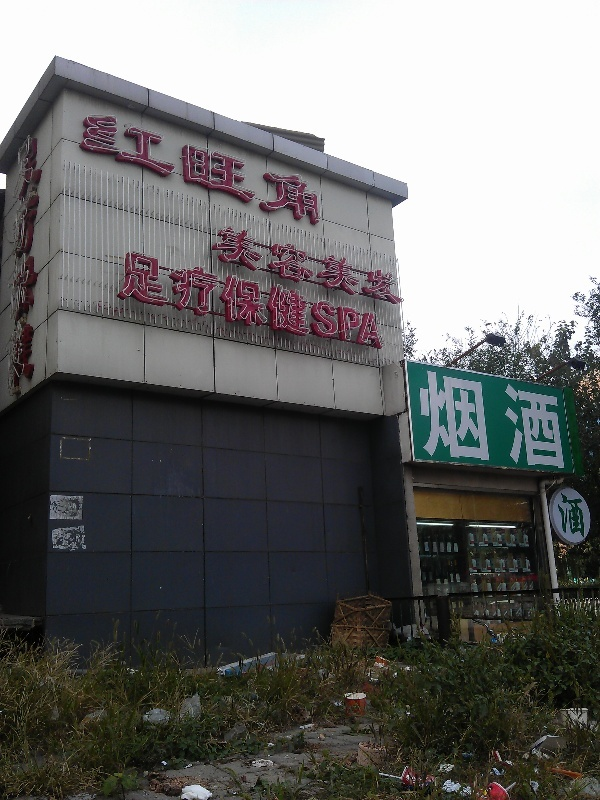text: (17, 119, 32, 398), (33, 119, 40, 398), (97, 109, 112, 227), (113, 109, 128, 227), (129, 109, 144, 227), (145, 109, 160, 227), (161, 109, 176, 227), (177, 109, 192, 227), (193, 109, 208, 227), (209, 109, 224, 227), (225, 109, 240, 227), (241, 109, 256, 227), (257, 109, 272, 227), (273, 109, 288, 227), (289, 109, 304, 227), (305, 109, 320, 227), (82, 109, 96, 227), (417, 367, 432, 473), (433, 367, 448, 473), (449, 367, 464, 473), (465, 367, 480, 473), (481, 367, 496, 473), (497, 367, 512, 473), (513, 367, 528, 473), (529, 367, 544, 473), (545, 367, 560, 473), (129, 246, 144, 350), (145, 246, 160, 350), (161, 246, 176, 350), (177, 246, 192, 350), (193, 246, 208, 350), (209, 246, 224, 350), (225, 246, 240, 350), (241, 246, 256, 350), (257, 246, 272, 350), (273, 246, 288, 350), (289, 246, 304, 350), (305, 246, 320, 350), (321, 246, 336, 350), (337, 246, 352, 350), (353, 246, 368, 350), (369, 246, 384, 350), (225, 221, 240, 308), (241, 221, 256, 308), (257, 221, 272, 308), (273, 221, 288, 308), (289, 221, 304, 308), (305, 221, 320, 308), (321, 221, 336, 308), (337, 221, 352, 308), (353, 221, 368, 308), (369, 221, 384, 308), (385, 221, 400, 308), (120, 246, 128, 350), (215, 221, 224, 308), (561, 490, 576, 538), (561, 367, 567, 473), (577, 490, 589, 538), (15, 119, 16, 398), (401, 221, 404, 308), (555, 490, 560, 538), (321, 109, 323, 227), (385, 246, 387, 350)
